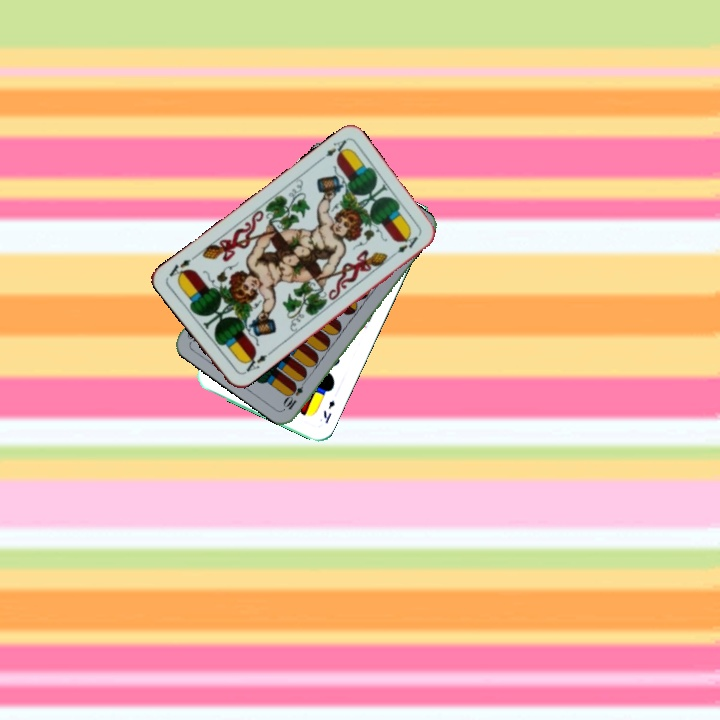E10: (280, 375, 309, 412)
EA: (314, 135, 351, 164), (239, 350, 270, 377)
EK: (319, 396, 338, 426)
